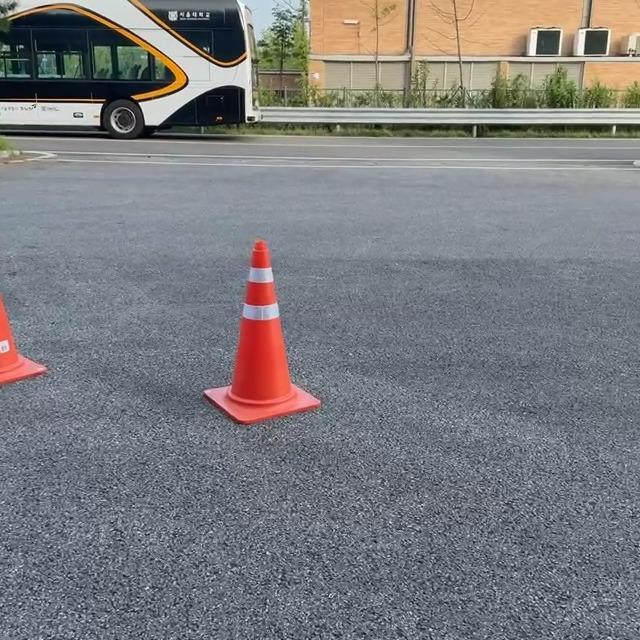fallen_object: (187, 205, 387, 490), (0, 266, 62, 424)
